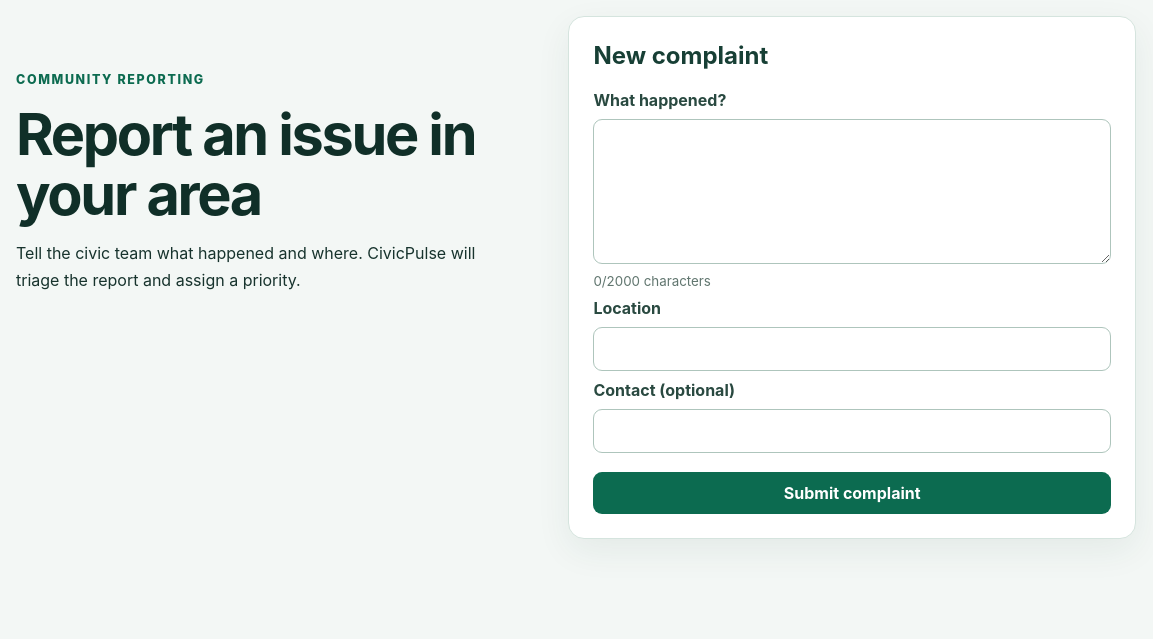
it: SubmitPage › shows the server's field-level validation errors
Step 1. Type "Burst water main flooding Street 12 since fajr" into the text box labelled "What happened?" → (852, 191), box [593,119,1111,264]
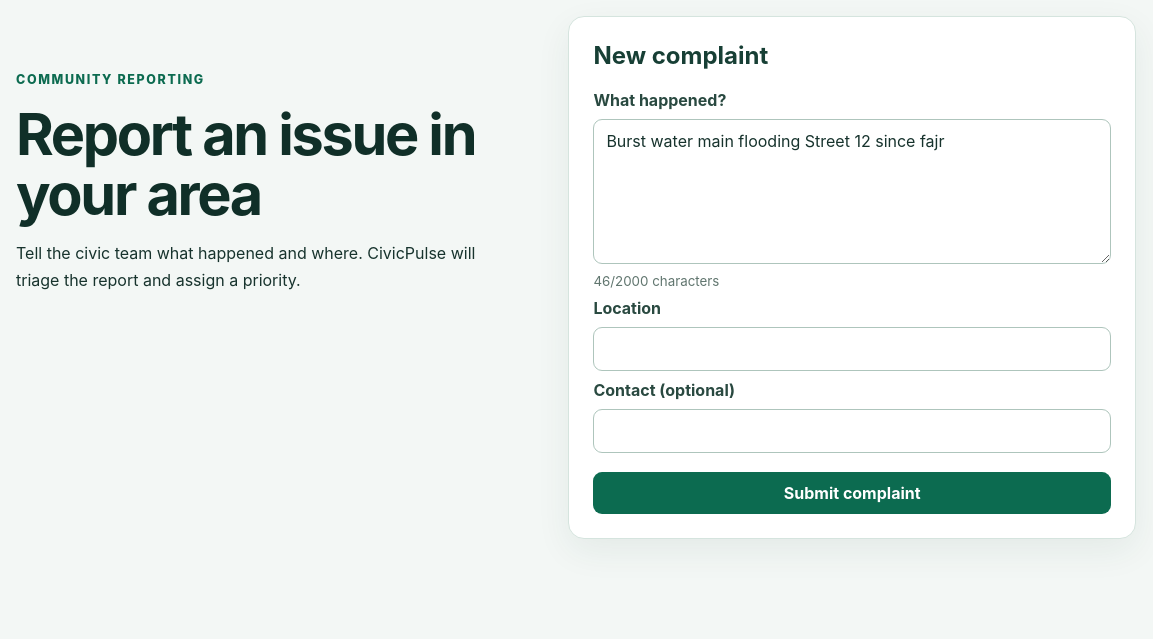
Step 2. Type "G-9/2, Islamabad" into the field labelled "Location" → (852, 349), box [593,327,1111,371]
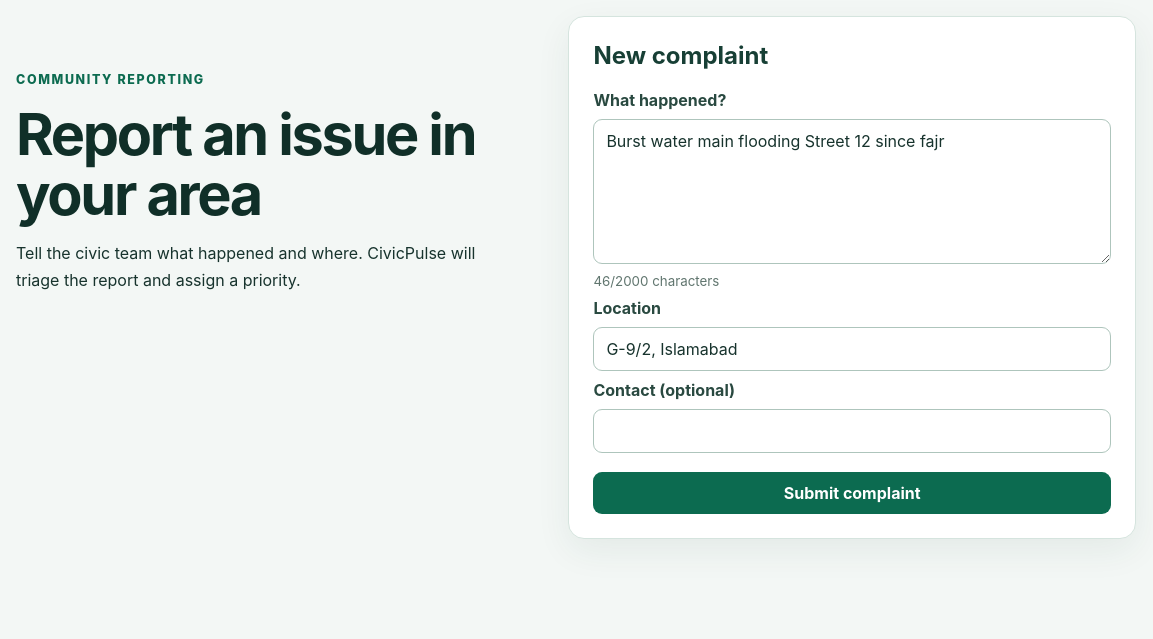
Step 3. Submit the form "Submit complaint", box [593,90,1111,514]
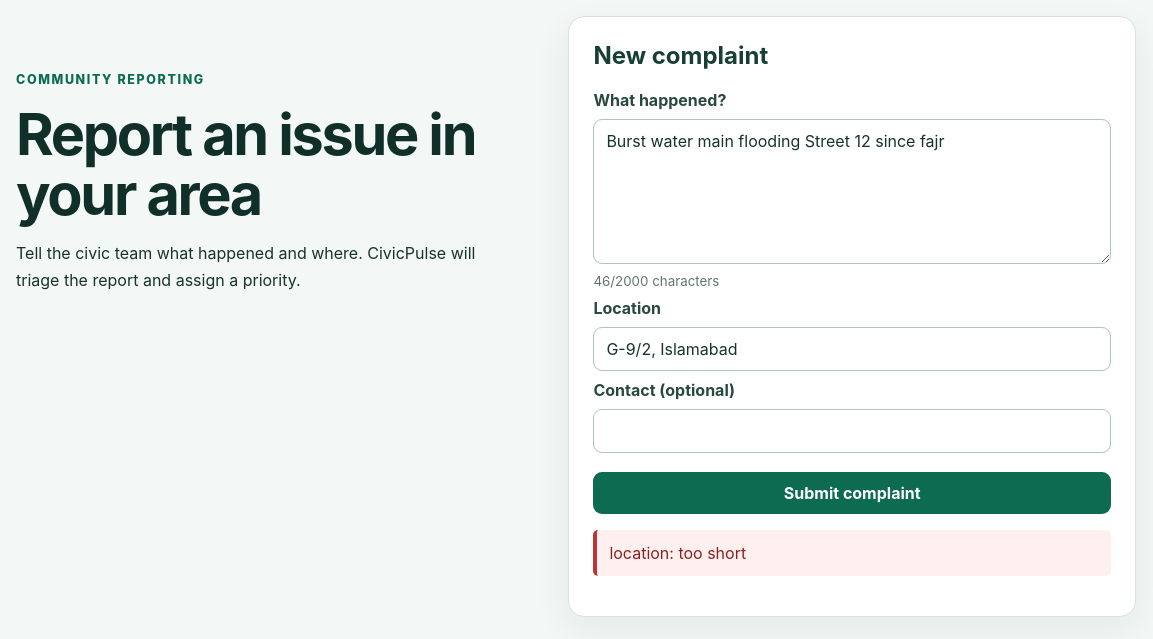
Now the message reads "location: too short", box [609,543,746,563]
